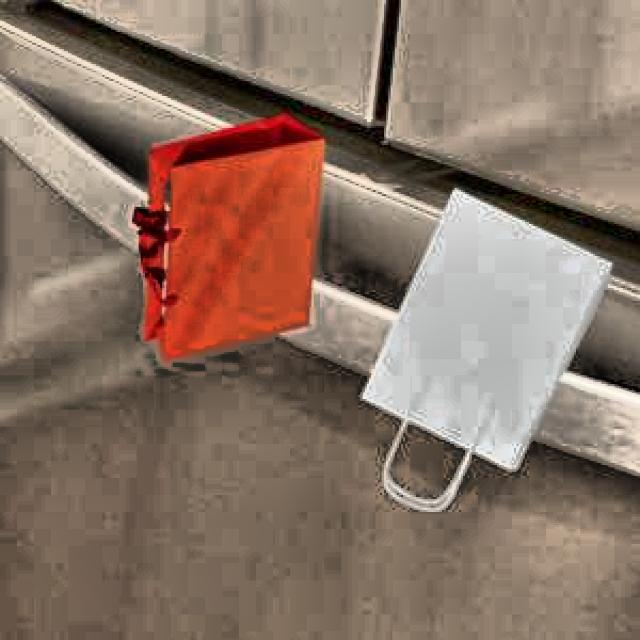Paper-bag: (351, 183, 614, 537), (128, 106, 328, 369)
